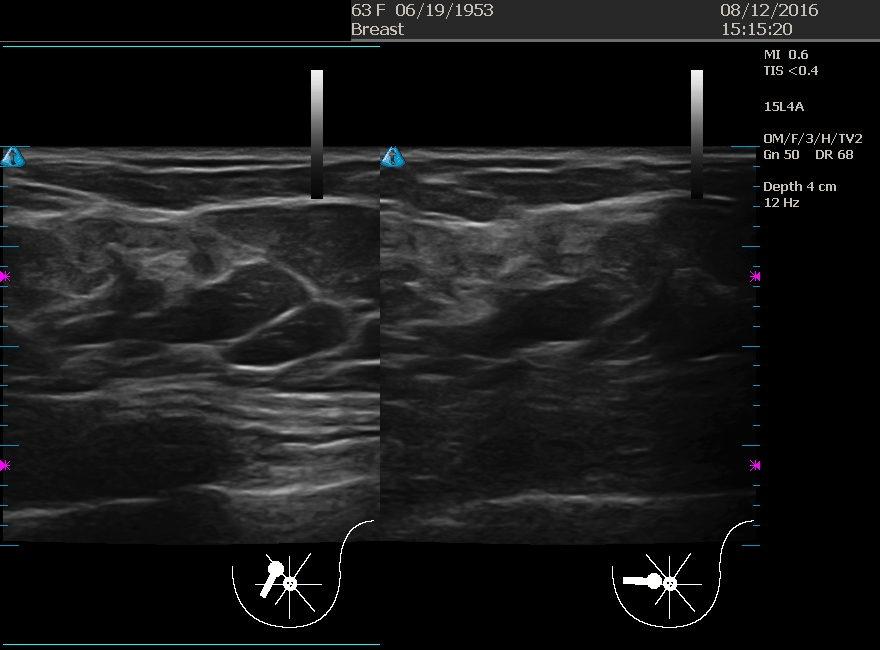BIRADS_3: (114, 220, 314, 420), (417, 263, 617, 463)
